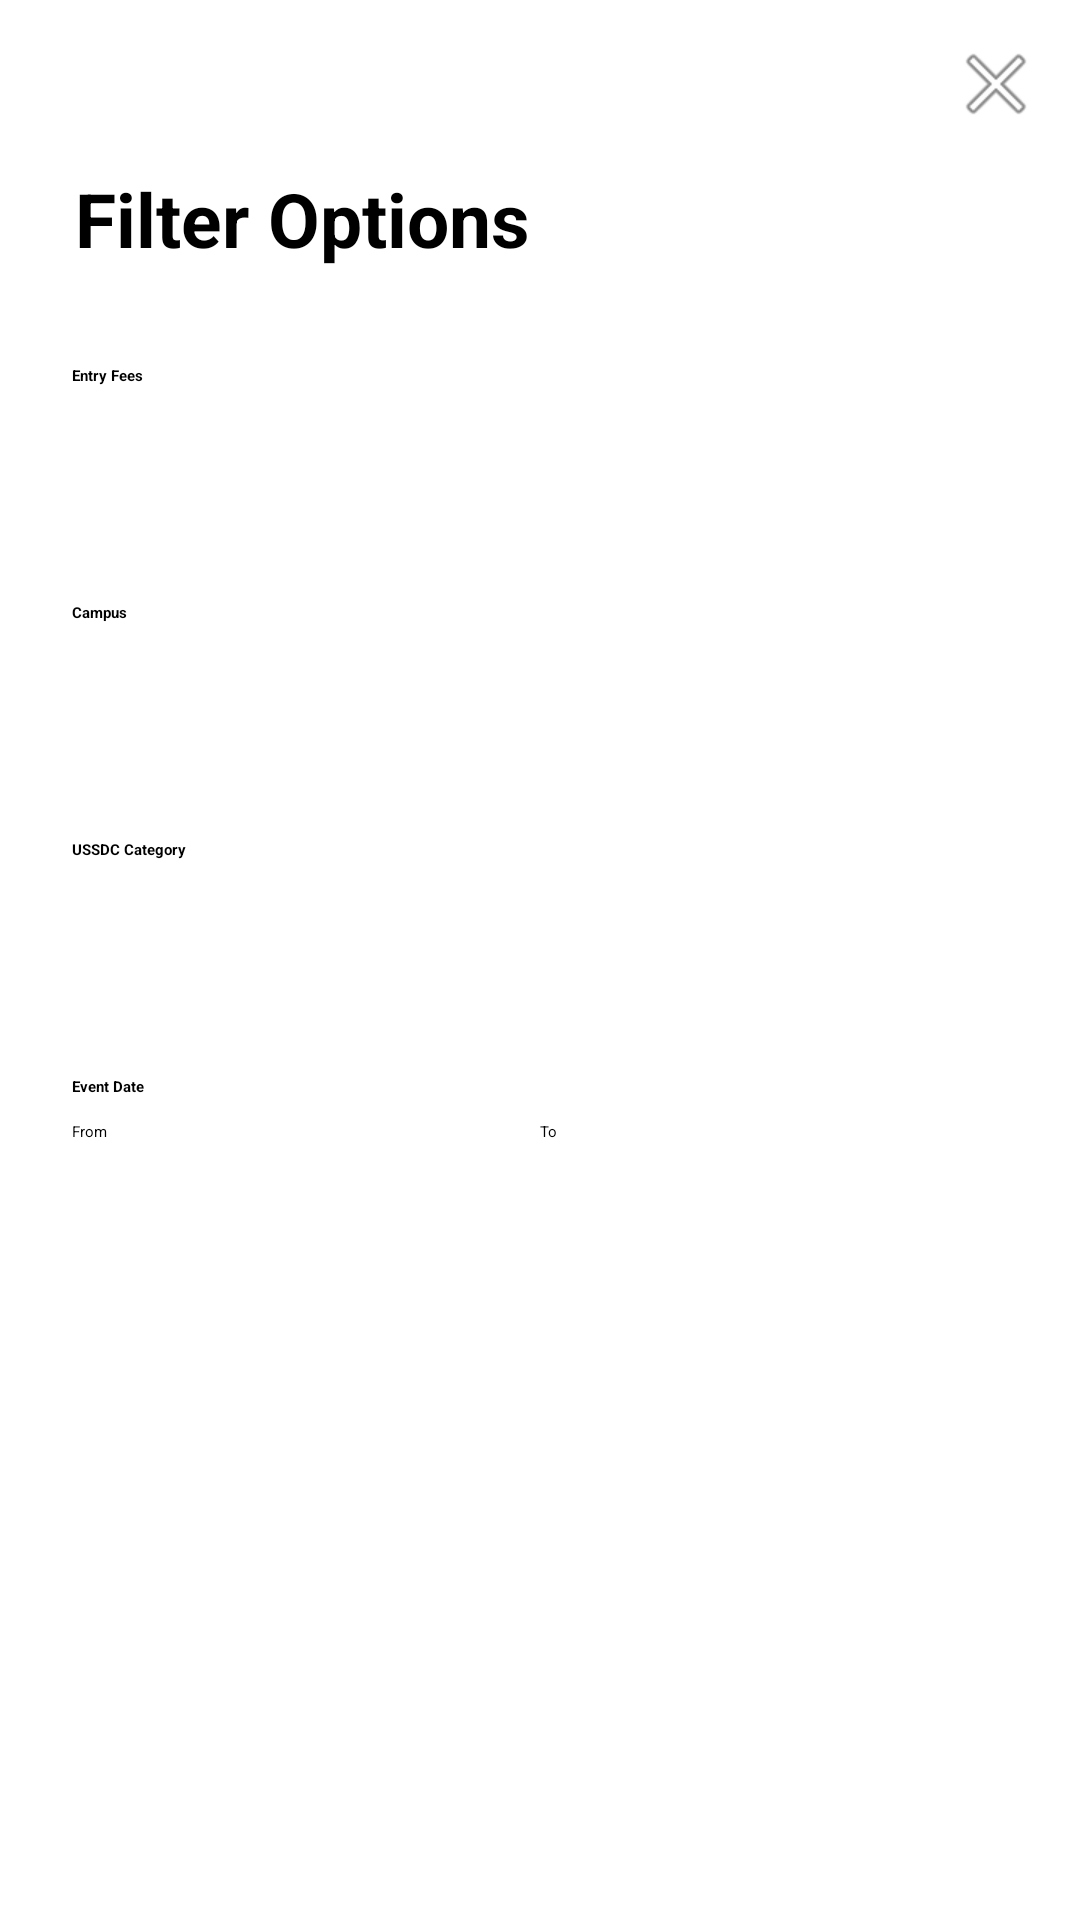

Locate icon controls on the screen. Image size 1080 x 1920, boxes as (x1, y1, x2, y2).
close clear cancel: (966, 54, 1026, 114)
